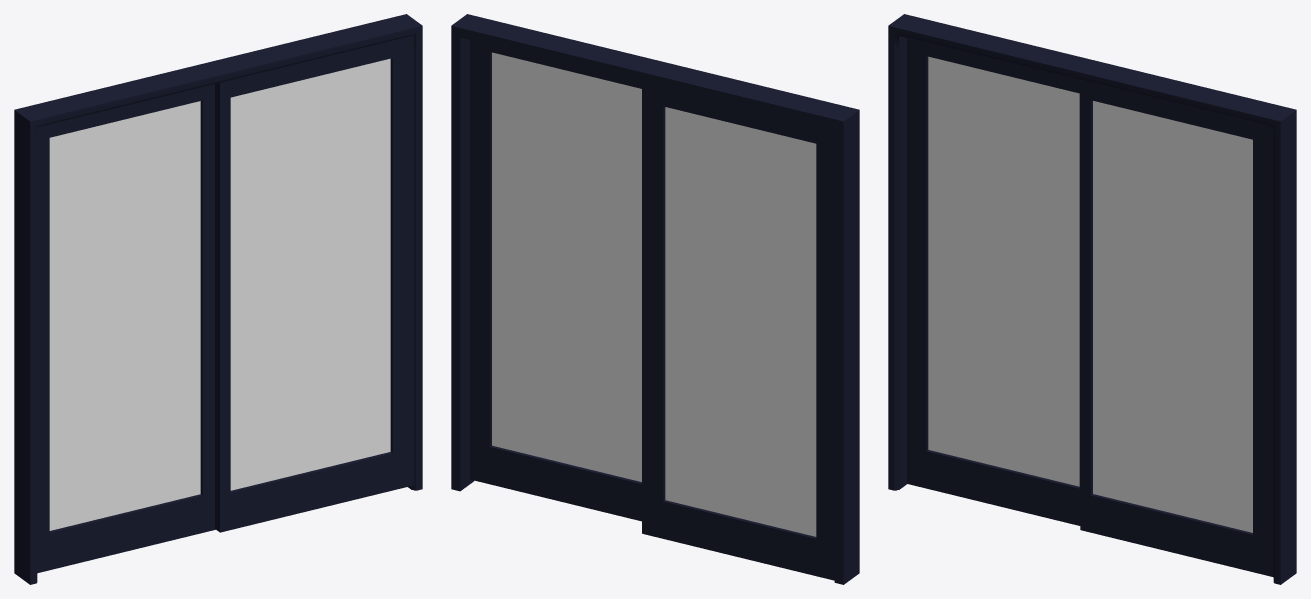
Rendered from door.glb.
The picture shows the model from 3 angles, left to right: view 1: azimuth 30°, elevation 25°; view 2: azimuth 150°, elevation 25°; view 3: azimuth 330°, elevation 25°; orthographic projection.
Parts seen in each view (by area): view 1: body, door; view 2: body, door; view 3: body, door.
Part boxes in pixels (box(x1,y1,x2,y2)): body: box(14, 14, 422, 584); door: box(215, 35, 413, 532); body: box(451, 14, 859, 584); door: box(470, 40, 641, 521); body: box(888, 14, 1296, 584); door: box(1080, 80, 1273, 577).
Bounding box in the file's own units: 5.3 × 5.99 × 0.3769.
